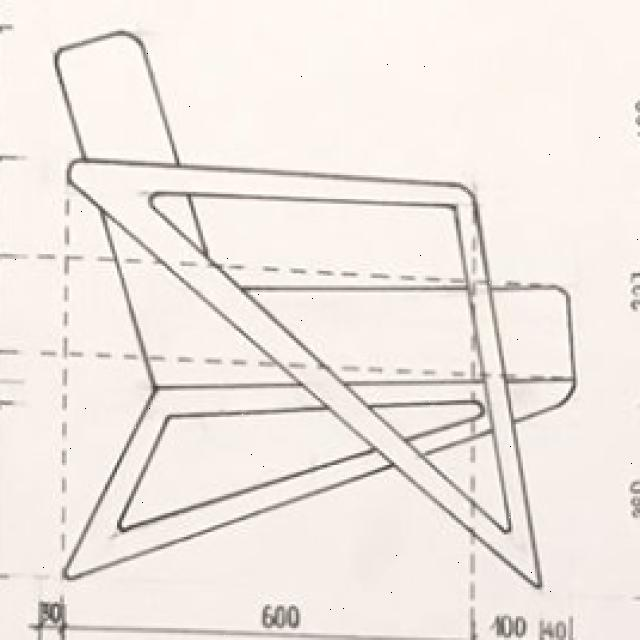Armrest: (64, 154, 548, 597)
Backrest: (49, 26, 215, 399)
Leg_Structure: (57, 375, 583, 586)
Seat: (153, 280, 583, 389)
